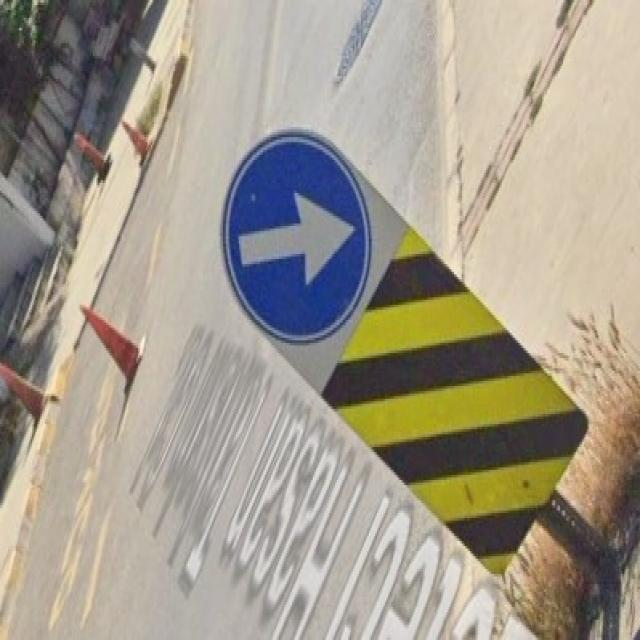Turn Right: (223, 134, 371, 345)
